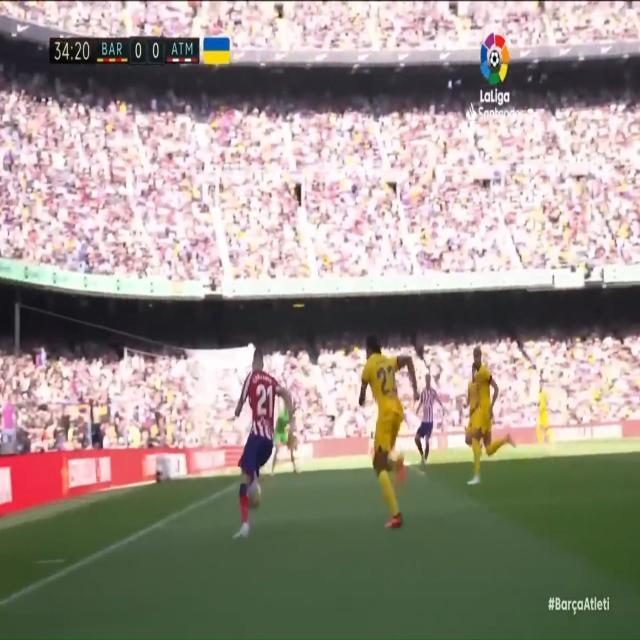ball: (246, 475, 268, 520)
goalkeeper: (270, 378, 296, 489)
player: (352, 331, 423, 542), (231, 337, 295, 554), (463, 337, 518, 492), (411, 368, 443, 489)
